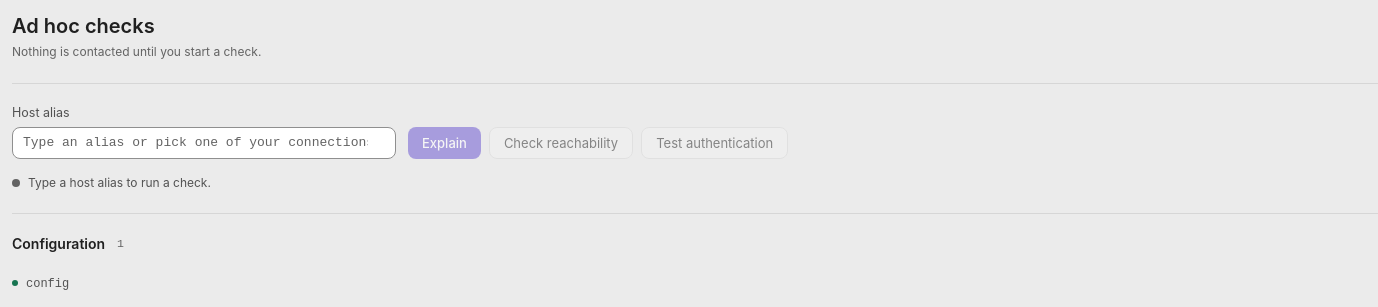
DiagnosticsPanel › drops a check's result when the typed target changes while the check runs
The width and height of the screenshot is (1378, 307).
Type "bastion" into the field labelled "Host alias" at (204, 143), box [12,127,396,159]
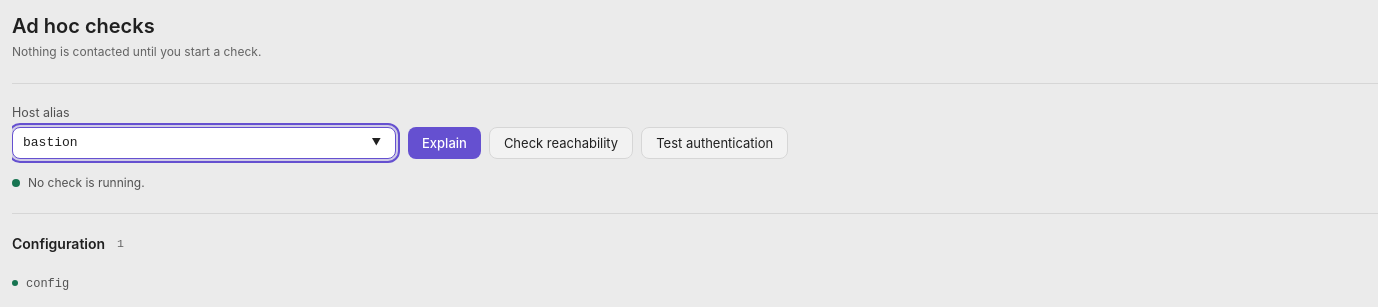
Click the button "Check reachability" at (561, 143), box [489,127,633,159]
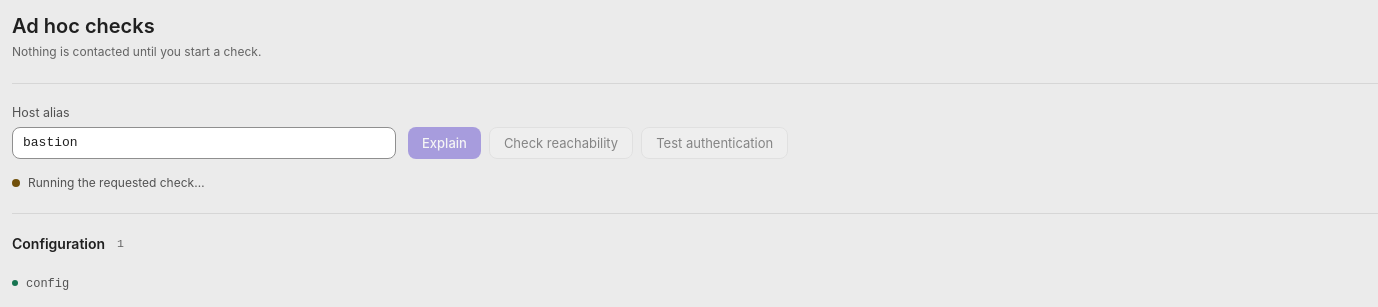
Replace the text in the field labelled "Host alias" with "nas" at (204, 143), box [12,127,396,159]
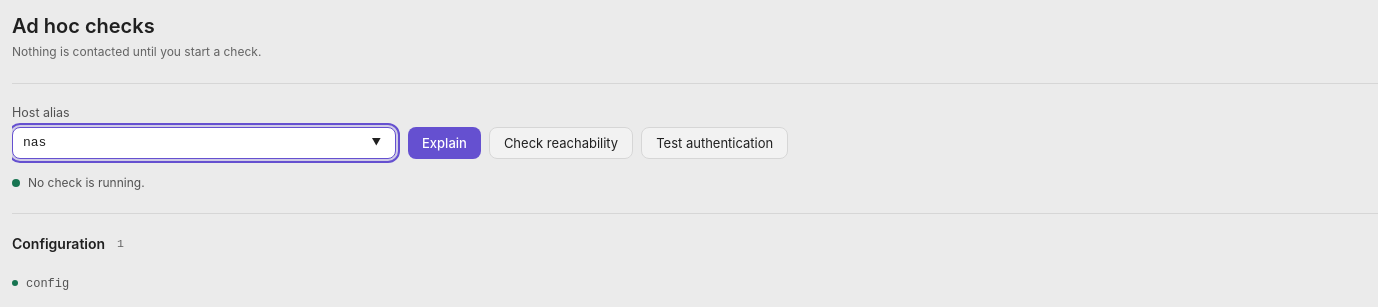
Now the button "Check reachability" is enabled, box [489,127,633,159]
